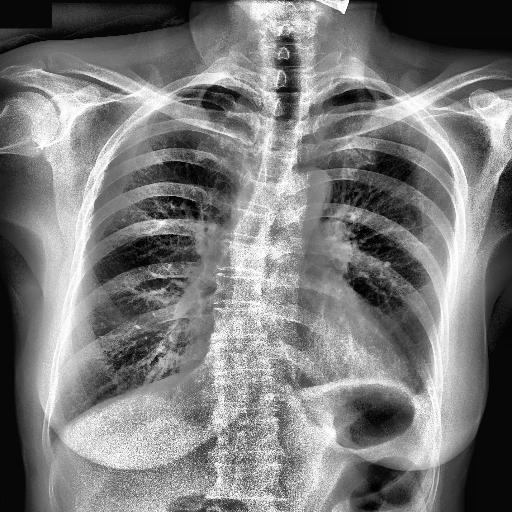0- Aortic enlargement: (276, 162, 336, 217)
10- Pleural effusion: (396, 368, 440, 436), (401, 374, 436, 412)
11- Pleural thickening: (396, 368, 440, 436), (401, 374, 436, 412)
3- Cardiomegaly: (208, 288, 414, 388), (194, 326, 419, 404)
9- Other lesion: (202, 135, 302, 368), (206, 222, 282, 400)
